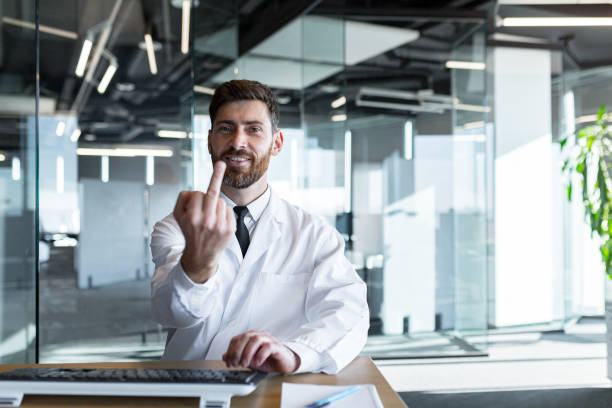insulting_gesture: (176, 163, 236, 261)
